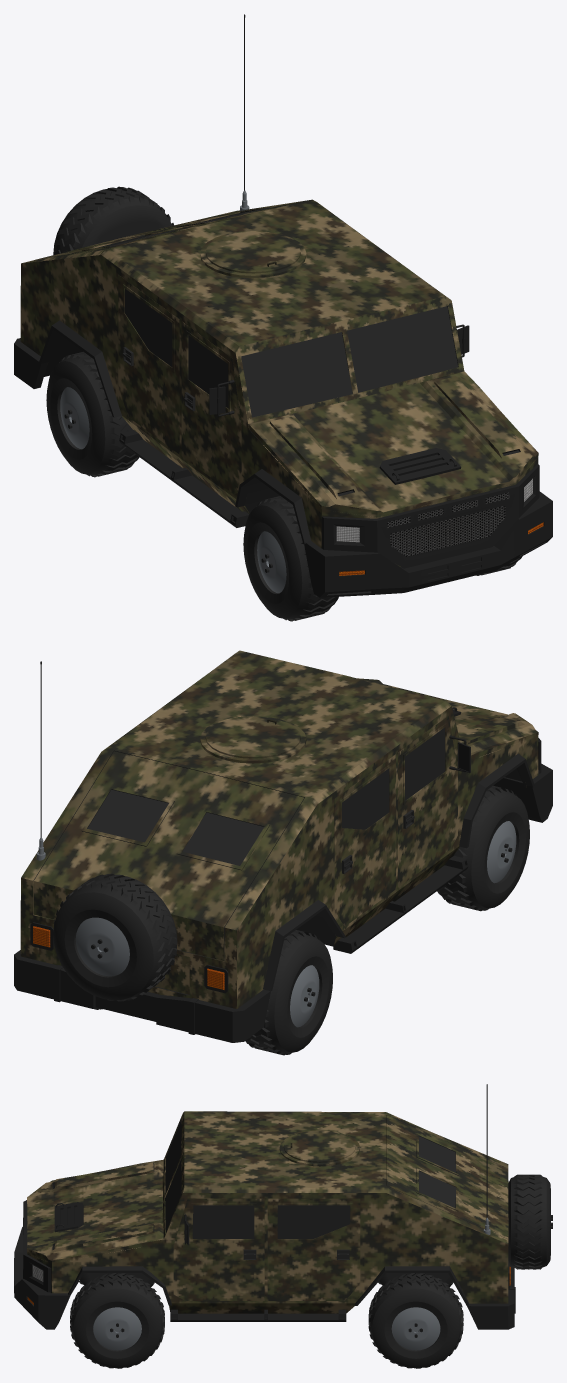
The model's file is T100_FREE.fbx.
3 renders of one model, top to bottom at view 1: azimuth 30°, elevation 25°; view 2: azimuth 150°, elevation 25°; view 3: azimuth 270°, elevation 25°, orthographic. The views are drawn at different scales.
Visible parts, largest first — view 1: SM_Body, SM_Wheel_4, SM_Wheel_2, SM_Wheel_5; view 2: SM_Body, SM_Wheel_5, SM_Wheel_2, SM_Wheel_4, Antenna_3; view 3: SM_Body, SM_Wheel_3, SM_Wheel_1, SM_Wheel_5, SM_Wheel_4.
Boxes of the visible parts, x1,y1,x2,y2 form: SM_Body: (14,199,552,597); SM_Wheel_4: (46,351,139,477); SM_Wheel_2: (243,496,338,621); SM_Wheel_5: (53,186,173,254); SM_Body: (14,650,552,1042); SM_Wheel_5: (53,873,177,1001); SM_Wheel_2: (437,785,529,911); SM_Wheel_4: (245,930,332,1055); Antenna_3: (36,661,45,860); SM_Body: (14,1111,515,1329); SM_Wheel_3: (368,1273,463,1368); SM_Wheel_1: (70,1273,164,1368); SM_Wheel_5: (508,1174,552,1269); SM_Wheel_4: (378,1273,453,1287).
Size of the model in its own units: 261 by 358 by 619.
Materials: 2 (2 with a texture image).
